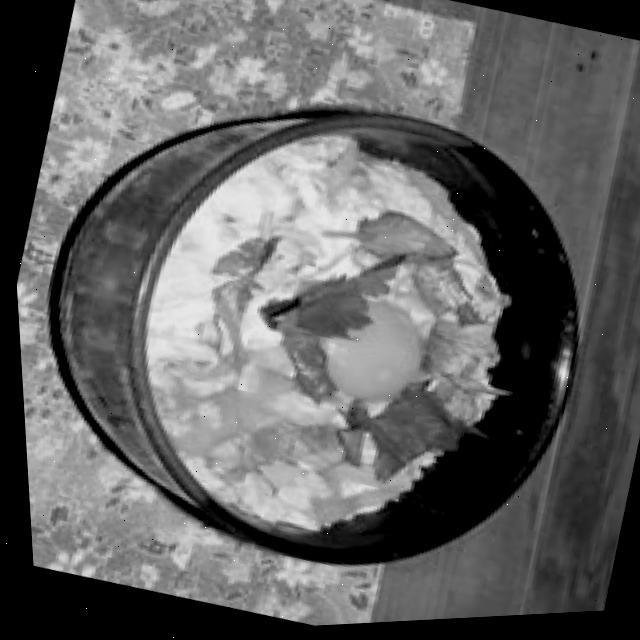米饭主食: (2, 16, 640, 637)
